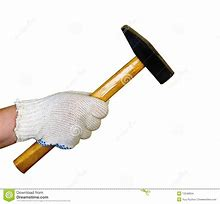hammer: (11, 22, 177, 175)
